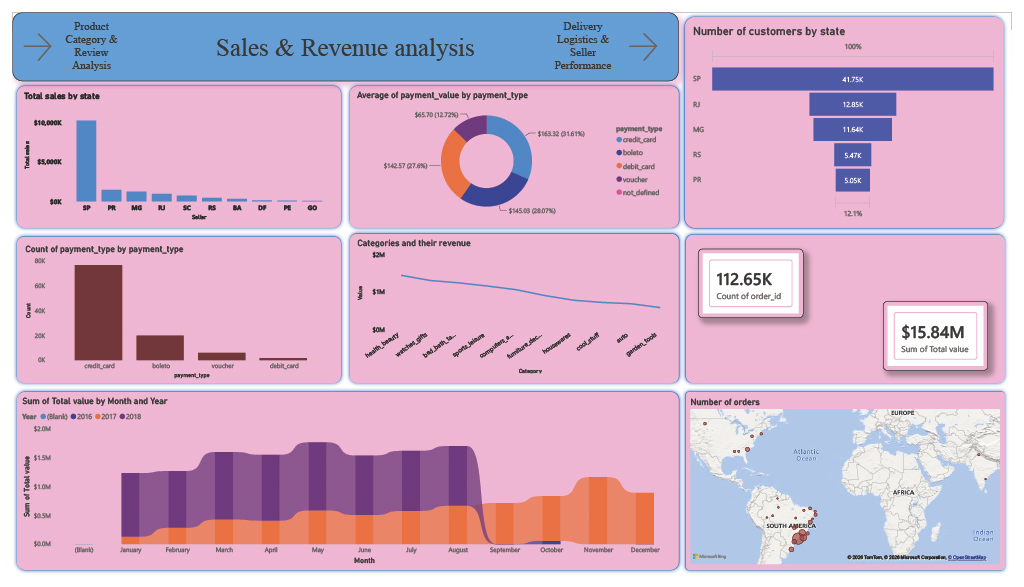

The page's visual inventory and layout, read from the dashboard file:
{"tool":"powerbi","page":{"name":"Sales & Revenue Analysis","canvas":[1920,1080],"ordinal":0},"visuals":[{"type":"shape","box":[1285,417.5,630,302.5],"z":0},{"type":"shape","box":[1285,720,630,360],"z":1000},{"type":"shape","box":[0,720,1290,360],"z":2000},{"type":"shape","box":[1282.5,0,630,422.5],"z":3000},{"type":"shape","box":[640,416.4,650,303.6],"z":4000},{"type":"shape","box":[0,421.7,640,298.3],"z":5000},{"type":"shape","box":[640,132,650,290],"z":6000},{"type":"shape","box":[0,131.7,640,290],"z":7000},{"type":"textbox","box":[0,0,1280,131.7],"z":8000},{"type":"columnChart","title":"Total sales by state","fields":{"Category":["cleaned_sellers_data.seller_state"],"Y":["Sum(cleaned_order_items_data.Total value)"]},"box":[18.3,148.3,601.7,255],"z":9000},{"type":"donutChart","fields":{"Y":["Avg(cleaned_order_payments_data.payment_value)"],"Category":["cleaned_order_payments_data.payment_type"]},"box":[656.7,148.9,614.4,254.4],"z":10000},{"type":"clusteredColumnChart","fields":{"Category":["cleaned_order_payments_data.payment_type"],"Y":["CountNonNull(cleaned_order_payments_data.payment_type)"]},"box":[20,445,601.7,263.3],"z":11000},{"type":"lineChart","title":"Categories and their revenue","fields":{"Category":["cleaned_products_data.product_category_name"],"Y":["Sum(cleaned_order_items_data.Total value)"]},"box":[657.8,432.2,613.3,265.6],"z":12000},{"type":"cardVisual","fields":{"Data":["CountNonNull(cleaned_order_items_data.order_id)"]},"box":[1318,454,202,133],"z":13000},{"type":"funnel","title":"Number of customers by state","fields":{"Category":["cleaned_customers_dataset.customer_state"],"Y":["CountNonNull(cleaned_customers_dataset.customer_unique_id)"]},"box":[1302.5,22.5,592.5,380],"z":14000},{"type":"ribbonChart","fields":{"Y":["Sum(cleaned_order_items_data.Total value)"],"Category":["cleaned_orders_data.order_approved_date.Variation.Date Hierarchy.Month"],"Series":["cleaned_orders_data.order_approved_date.Variation.Date Hierarchy.Year"]},"box":[14.4,737.2,1260.6,327.8],"z":15000},{"type":"map","title":"Number of orders","fields":{"Category":["cleaned_customers_dataset.customer_state"],"Size":["CountNonNull(cleaned_order_items_data.order_id)"]},"box":[1297.5,737.5,605,327.5],"z":16000},{"type":"cardVisual","fields":{"Data":["Sum(cleaned_order_items_data.Total value)"]},"box":[1673,555,202,133],"z":17000},{"type":"actionButton","box":[1178.3,33.3,76.7,66.7],"z":18000},{"type":"textbox","box":[1013.8,10,165,111.2],"z":19000},{"type":"actionButton","box":[14.3,32.9,76.7,66.7],"z":20000},{"type":"textbox","box":[91.4,10,121.4,111.4],"z":21000}]}

Visuals, with their boxes in screenshot pixels (x1, y1, x2, y2), scaled from the page's 1920x1080 canvas onto the 1024x587 screenshot:
shape: BBox(685, 227, 1021, 391)
shape: BBox(685, 391, 1021, 586)
shape: BBox(0, 391, 688, 586)
shape: BBox(684, 0, 1020, 230)
shape: BBox(341, 226, 688, 391)
shape: BBox(0, 229, 341, 391)
shape: BBox(341, 72, 688, 229)
shape: BBox(0, 72, 341, 229)
textbox: BBox(0, 0, 683, 72)
"Total sales by state" columnChart: BBox(10, 81, 331, 219)
donutChart - Avg(cleaned_order_payments_data.payment_value) x cleaned_order_payments_data.payment_type: BBox(350, 81, 678, 219)
clusteredColumnChart - cleaned_order_payments_data.payment_type x CountNonNull(cleaned_order_payments_data.payment_type): BBox(11, 242, 332, 385)
"Categories and their revenue" lineChart: BBox(351, 235, 678, 379)
cardVisual - CountNonNull(cleaned_order_items_data.order_id): BBox(703, 247, 811, 319)
"Number of customers by state" funnel: BBox(695, 12, 1011, 219)
ribbonChart - Sum(cleaned_order_items_data.Total value) x cleaned_orders_data.order_approved_date.Variation.Date Hierarchy.Month: BBox(8, 401, 680, 579)
"Number of orders" map: BBox(692, 401, 1015, 579)
cardVisual - Sum(cleaned_order_items_data.Total value): BBox(892, 302, 1000, 374)
actionButton: BBox(628, 18, 669, 54)
textbox: BBox(541, 5, 629, 66)
actionButton: BBox(8, 18, 49, 54)
textbox: BBox(49, 5, 113, 66)
